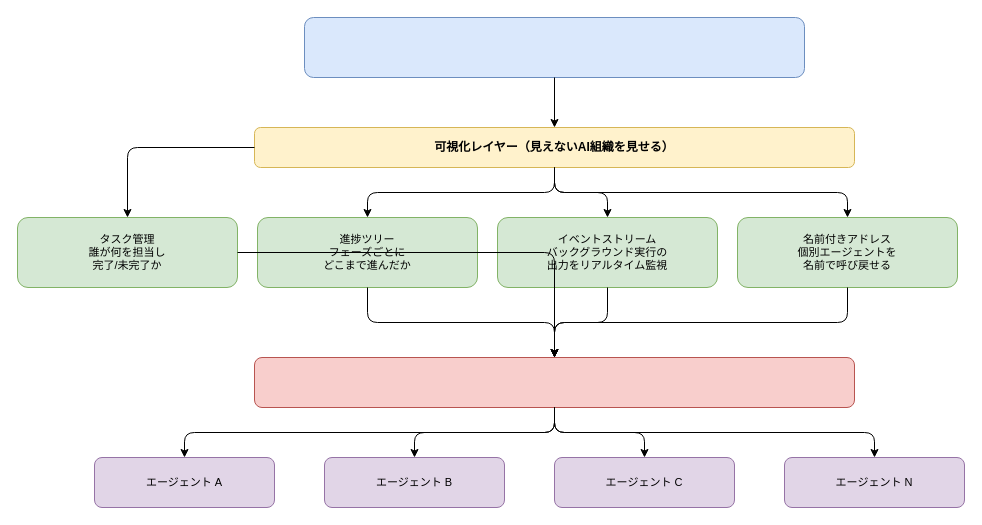
Image size: 982x525. Some labels were removed from this diagram. The shapes that lost their labels are listed below. From the top down, each one's box as (x1, y1, x2, y2) in pixels, then its label:
(304, 16, 804, 78): 人間（監督者） 指示を出し、進捗を確認する
(254, 356, 854, 408): オーケストレーション層 並列実行・パイプライン・依存関係の制御
